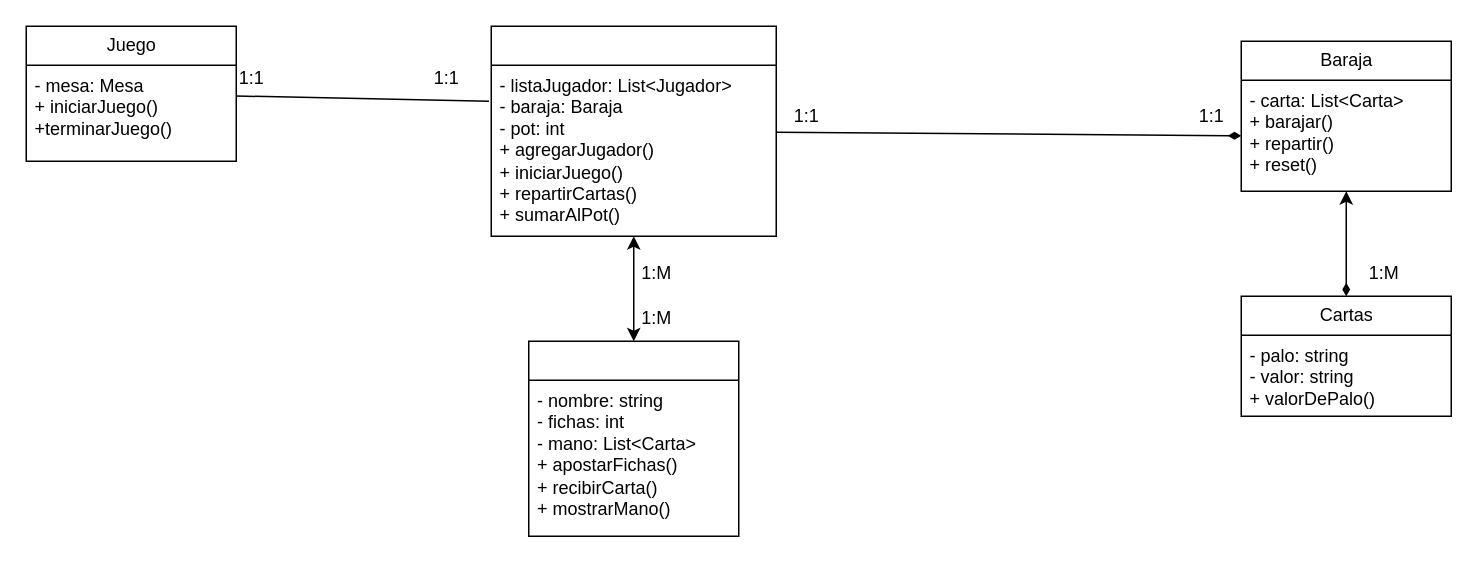
Image size: 1478x567. Some labels were removed from this diagram. The box of each missing label's shape, as (x1, y1, x2, y2) in pixels:
Jugador: (527, 340, 739, 536)
Mesa: (490, 25, 776, 236)
